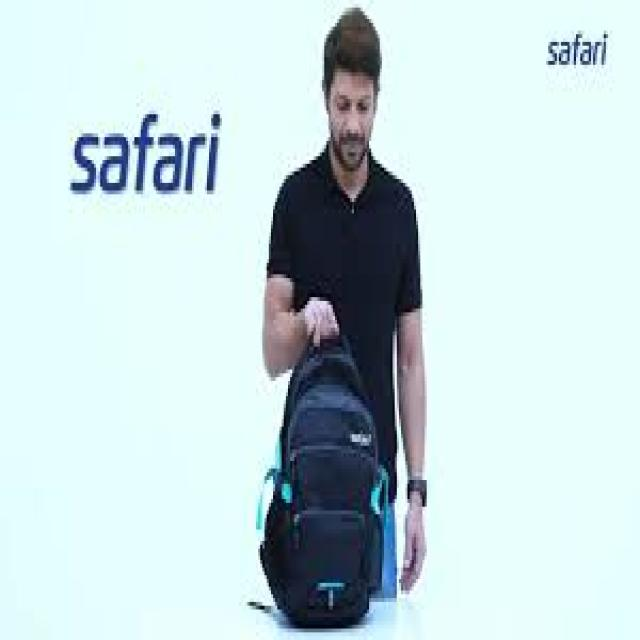backpack: (257, 332, 389, 626)
